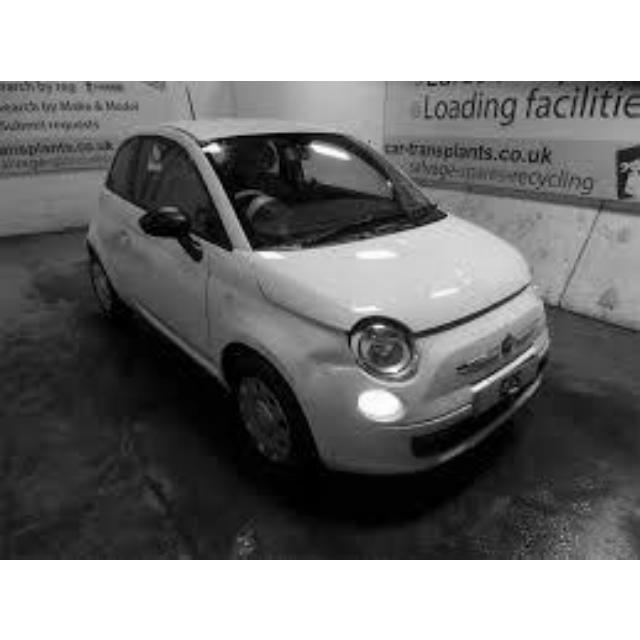fender-dent: (208, 308, 351, 401)
